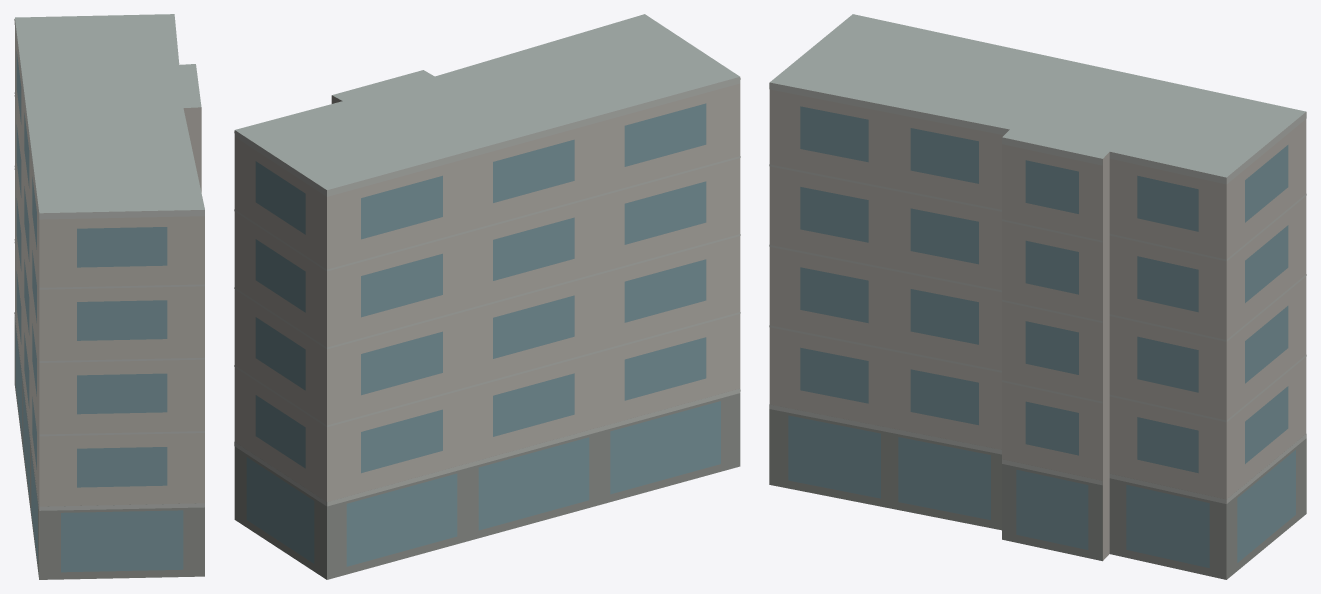
The model's file is survey-upis-32728714.glb.
The picture shows the model from 3 angles, left to right: view 1: azimuth 30°, elevation 25°; view 2: azimuth 150°, elevation 25°; view 3: azimuth 270°, elevation 25°; orthographic projection. The views are drawn at different scales.
Parts seen in each view (by area): view 1: survey-upis-32728714.tmp; view 2: survey-upis-32728714.tmp; view 3: survey-upis-32728714.tmp.
Part boxes in pixels (x1,y1,x2,y2): survey-upis-32728714.tmp: (14, 14, 204, 579); survey-upis-32728714.tmp: (234, 14, 740, 579); survey-upis-32728714.tmp: (769, 14, 1306, 579).
Bounding box in the file's own units: 12.32 × 14.1 × 17.08.
